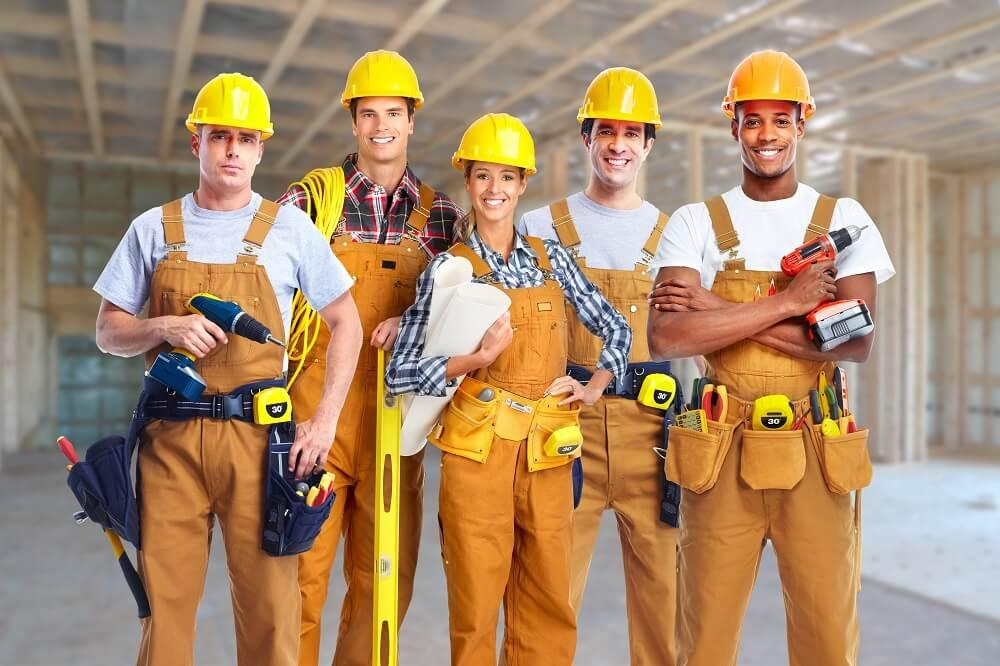helmet: (725, 51, 817, 117), (453, 112, 538, 180), (187, 75, 273, 140), (580, 69, 662, 130), (342, 50, 424, 108)
